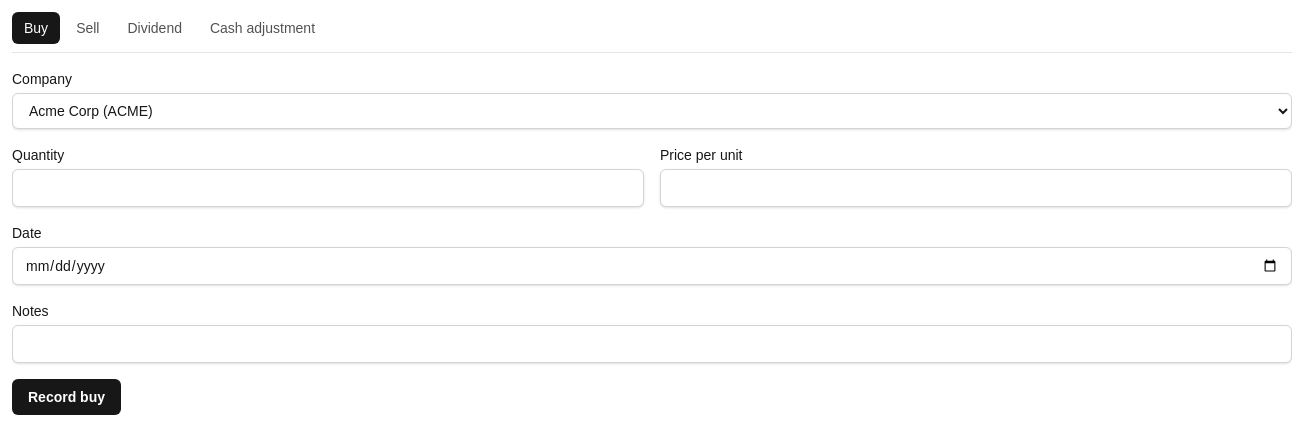
Test: TransactionForms › switches to the dividend form when the Dividend tab is clicked
Click the button "Dividend" at (155, 28), box [116,12,194,44]
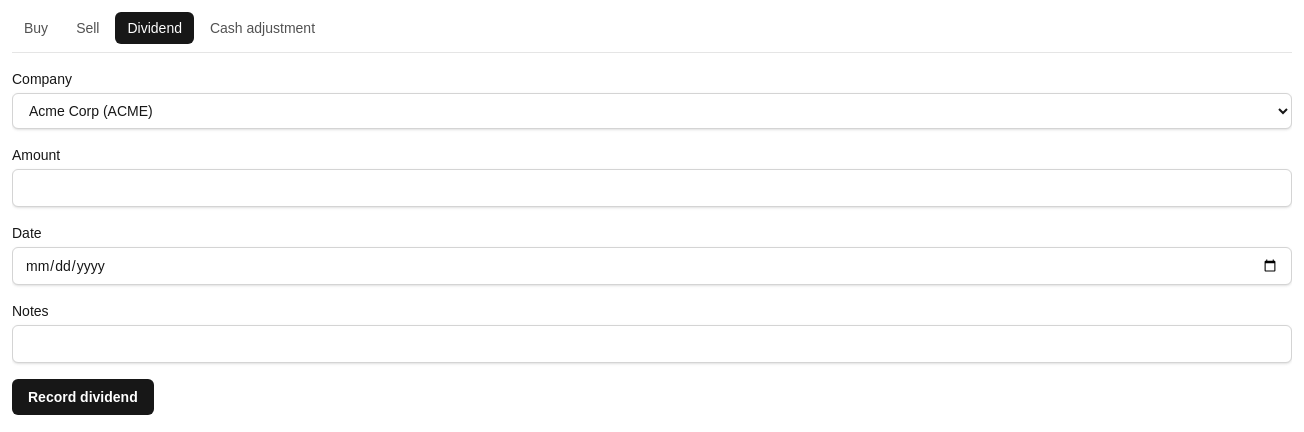
Result: the button "Record dividend" is shown at [12,379,154,415]
